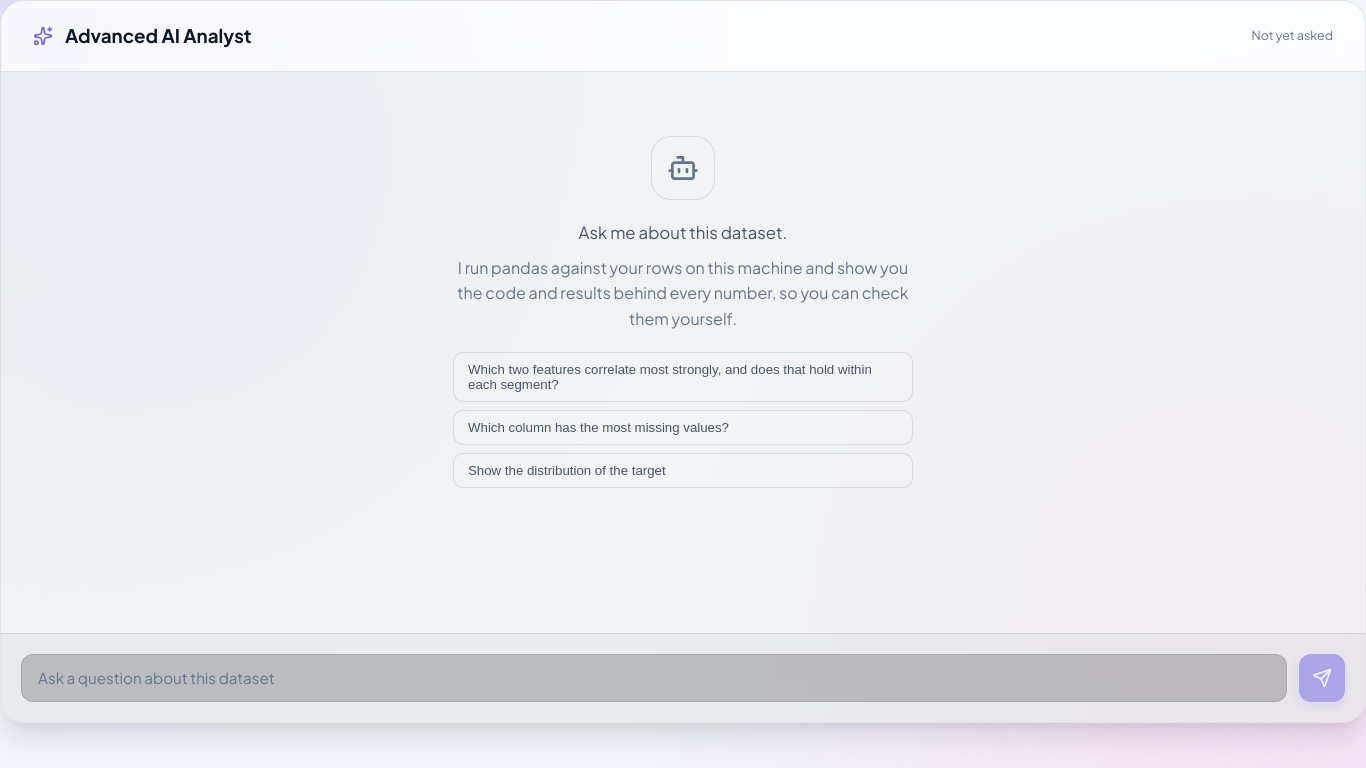
Test case: ChatBox › shows the code behind a number so the answer can be checked
This screenshot has width=1366, height=768.
Type "which two features correlate most strongly?" into the field named "Ask the analyst" at (654,678), box [21,654,1287,702]
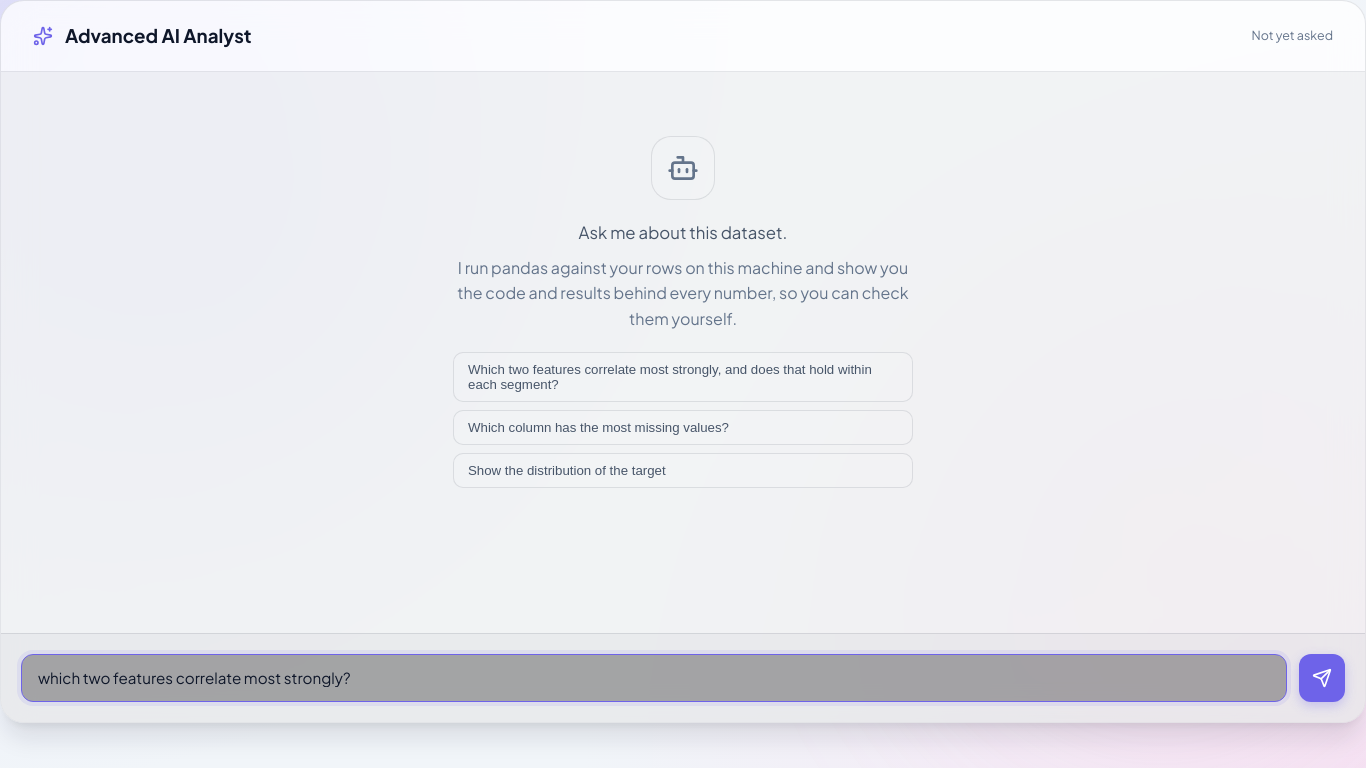
Click the button named "Send" at (1322,678), box [1299,654,1345,702]
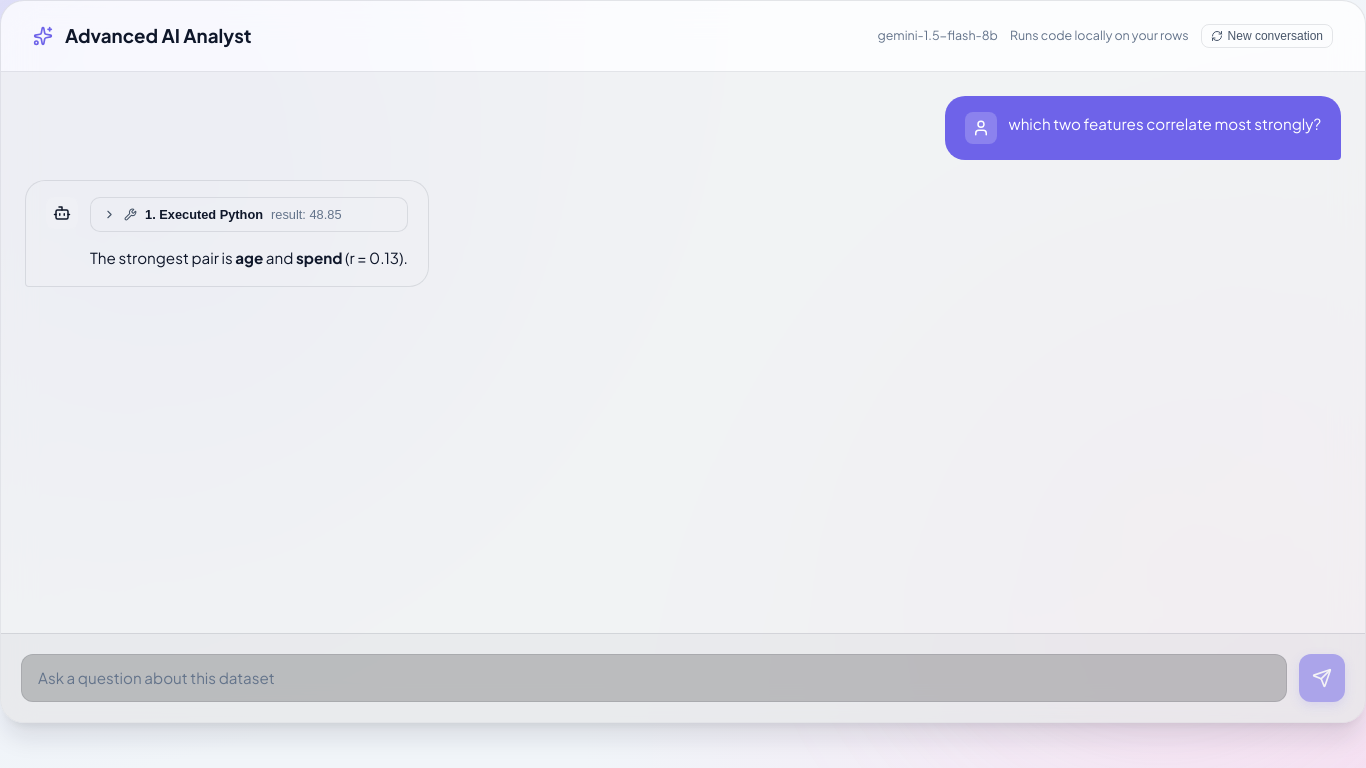
Click the button "1. Executed Python result: 48.85" at (249,214), box [91,198,407,231]
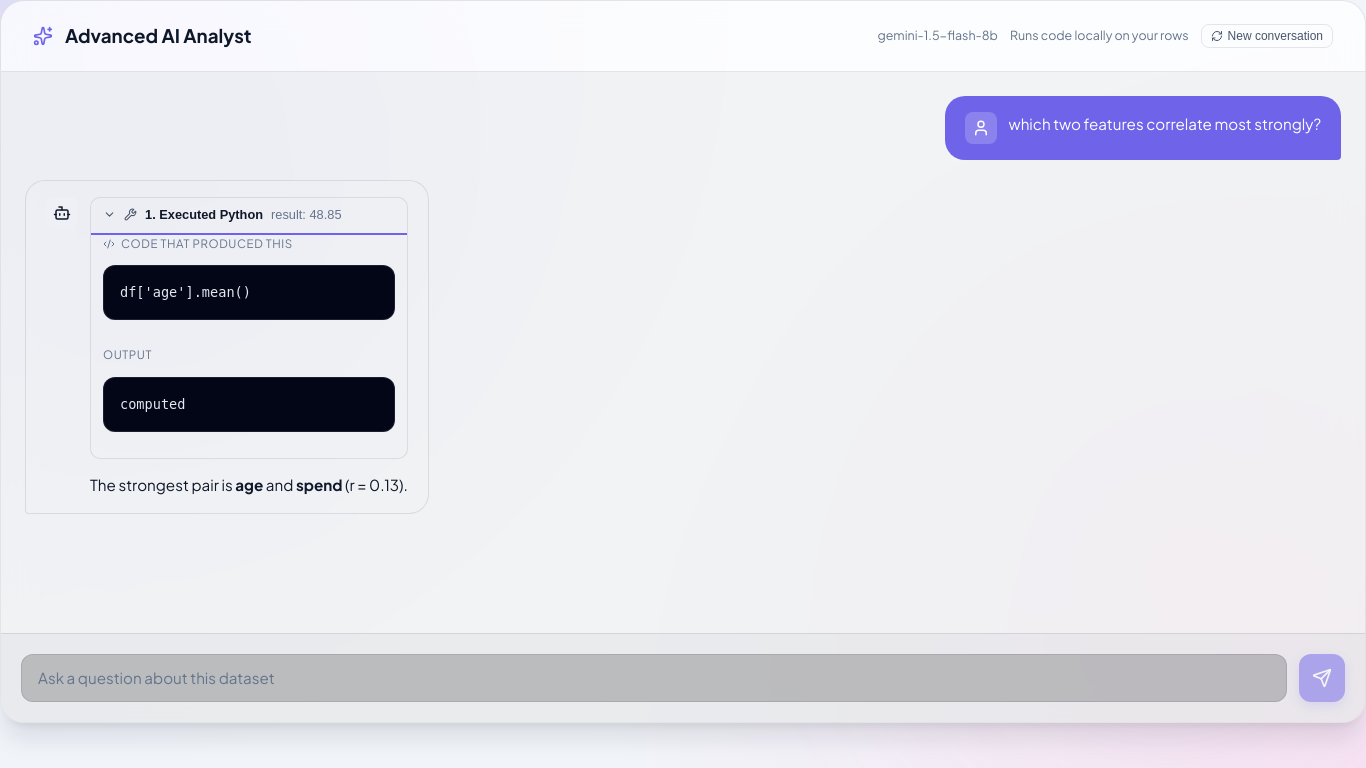
Expected: the text "df['age'].mean()" is shown, [120,284,251,300]
Expected: the text "computed" is shown, [120,396,186,412]
